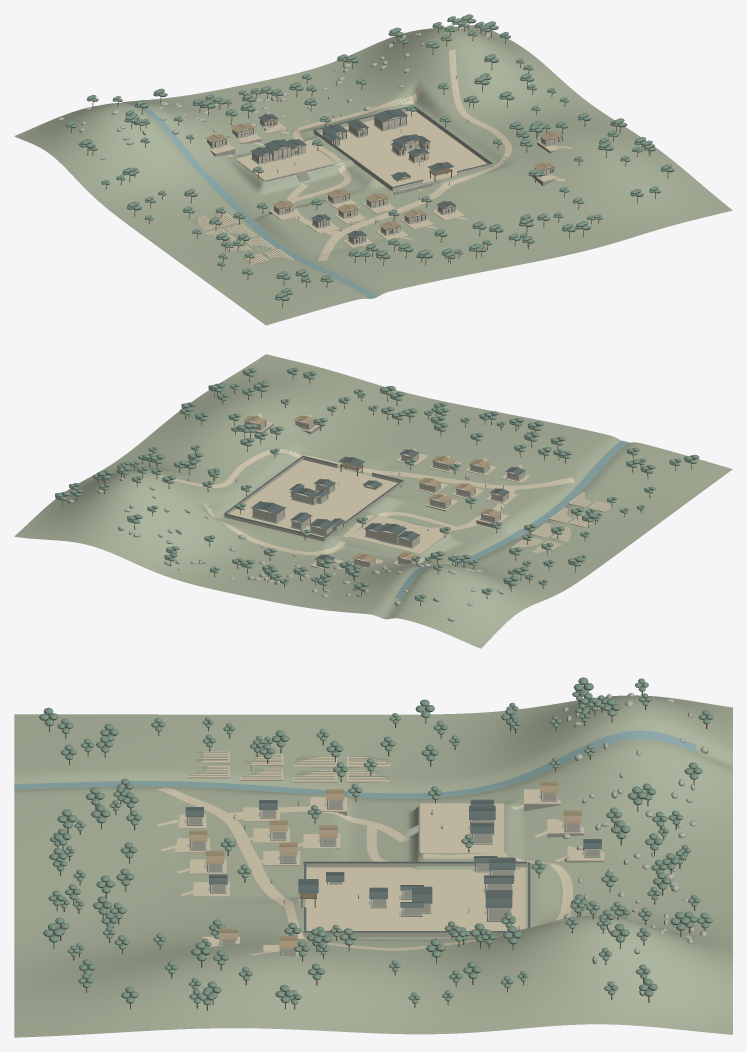
Rendered from blender-village-v043.glb.
3 views of the same model, one above another, from view 1: azimuth 30°, elevation 25°; view 2: azimuth 150°, elevation 25°; view 3: azimuth 270°, elevation 25° (orthographic). The views are drawn at different scales.
Visible parts, largest first — view 1: v043 continuous ridges and occupied terraces, Administrative compound court, Western lowland stream, Guesthouse courtyard, North outside compound lane, Eastern hill trail, Main village street; view 2: v043 continuous ridges and occupied terraces, Administrative compound court, Western lowland stream, Guesthouse courtyard, North outside compound lane, Main village street, Eastern hill trail; view 3: v043 continuous ridges and occupied terraces, Administrative compound court, Western lowland stream, Guesthouse courtyard, Main village street, North outside compound lane, Compound side wall, Eastern hill trail, Guesthouse and compound connecting lane, Compound side wall.001.
Boxes of the visible parts, box(x1,y1,x2,y2) form: v043 continuous ridges and occupied terraces: box(14, 25, 732, 325); Administrative compound court: box(319, 111, 487, 191); Western lowland stream: box(129, 104, 376, 298); Guesthouse courtyard: box(235, 141, 335, 180); North outside compound lane: box(292, 87, 422, 201); Eastern hill trail: box(446, 49, 511, 185); Main village street: box(317, 183, 451, 261); v043 continuous ridges and occupied terraces: box(14, 354, 732, 648); Administrative compound court: box(229, 460, 402, 537); Western lowland stream: box(395, 440, 628, 598); Guesthouse courtyard: box(349, 515, 449, 554); North outside compound lane: box(204, 504, 455, 555); Main village street: box(358, 468, 574, 489); Eastern hill trail: box(158, 449, 341, 487); v043 continuous ridges and occupied terraces: box(14, 695, 732, 1037); Administrative compound court: box(305, 867, 525, 930); Western lowland stream: box(14, 730, 696, 798); Guesthouse courtyard: box(420, 803, 503, 853); Main village street: box(157, 787, 293, 905); North outside compound lane: box(366, 825, 572, 920); Compound side wall: box(303, 863, 527, 867); Eastern hill trail: box(284, 903, 567, 950); Guesthouse and compound connecting lane: box(224, 806, 409, 841); Compound side wall.001: box(303, 932, 503, 936).
Bounding box in the file's own units: 230 × 30.16 × 215.
